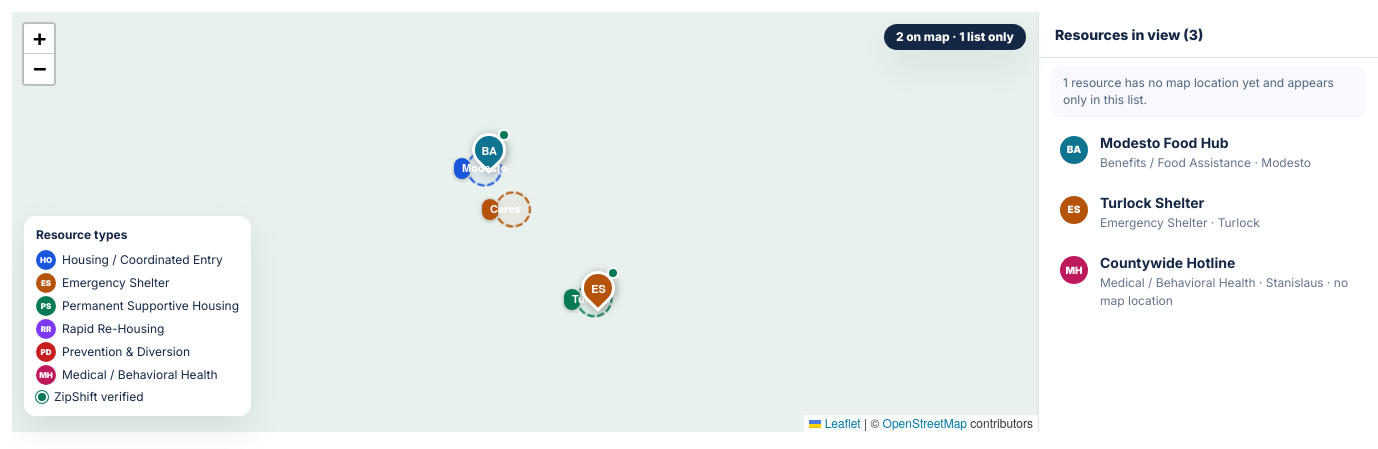
Test: ZipShiftMap accessible alternative › lists every resource, flags ones without coordinates, and syncs selection
Later steps or results of the test are not shown.
Expected: the button with class "zs-map-item" shows "no map location", [1047, 245, 1370, 319]
Click the button with class "zs-map-item" that starts with "Turlock Shelter" at (1208, 213), box [1047, 185, 1370, 241]
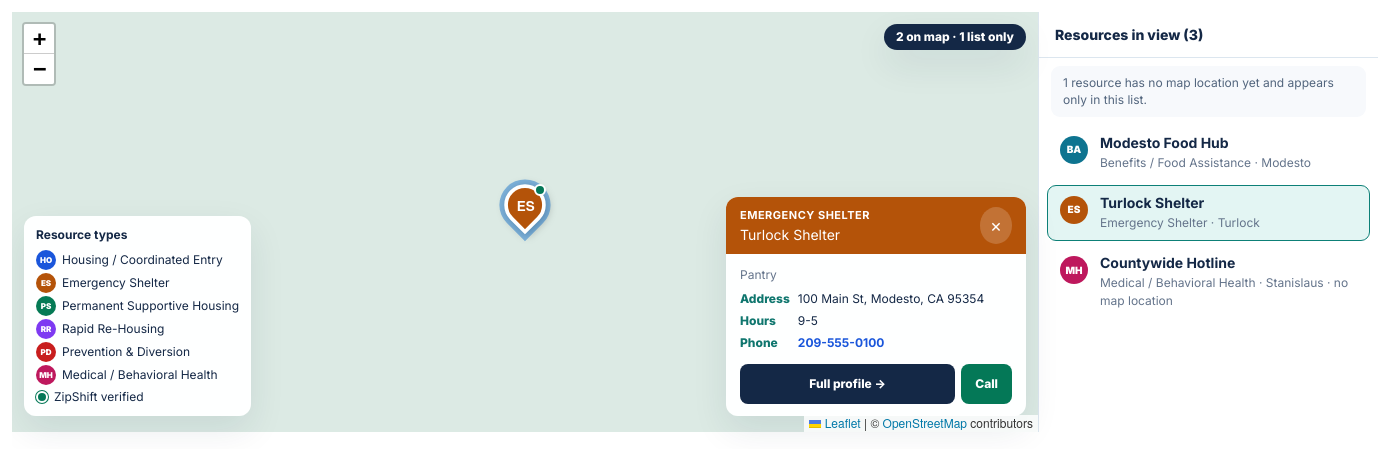
Result: the element with class "zs-map-preview" shows "Turlock Shelter" at [740, 226, 840, 243]
